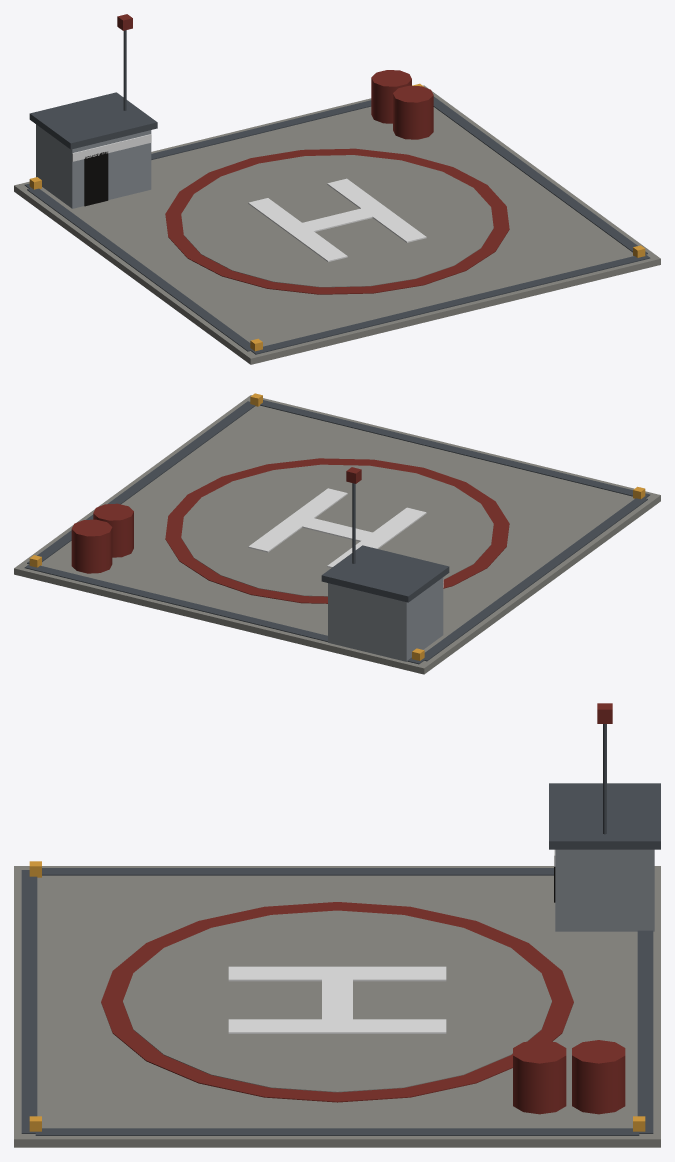
3 renders of one model, top to bottom at view 1: azimuth 30°, elevation 25°; view 2: azimuth 150°, elevation 25°; view 3: azimuth 270°, elevation 25°, orthographic. The views are drawn at different scales.
Parts seen in each view (by area): view 1: garde_building_helipad; view 2: garde_building_helipad; view 3: garde_building_helipad.
Boxes of the visible parts, x1,y1,x2,y2 form: garde_building_helipad: (14, 14, 660, 364); garde_building_helipad: (14, 393, 660, 674); garde_building_helipad: (14, 703, 660, 1147).
Bounding box in the file's own units: 20.8 × 8.1 × 20.8.
